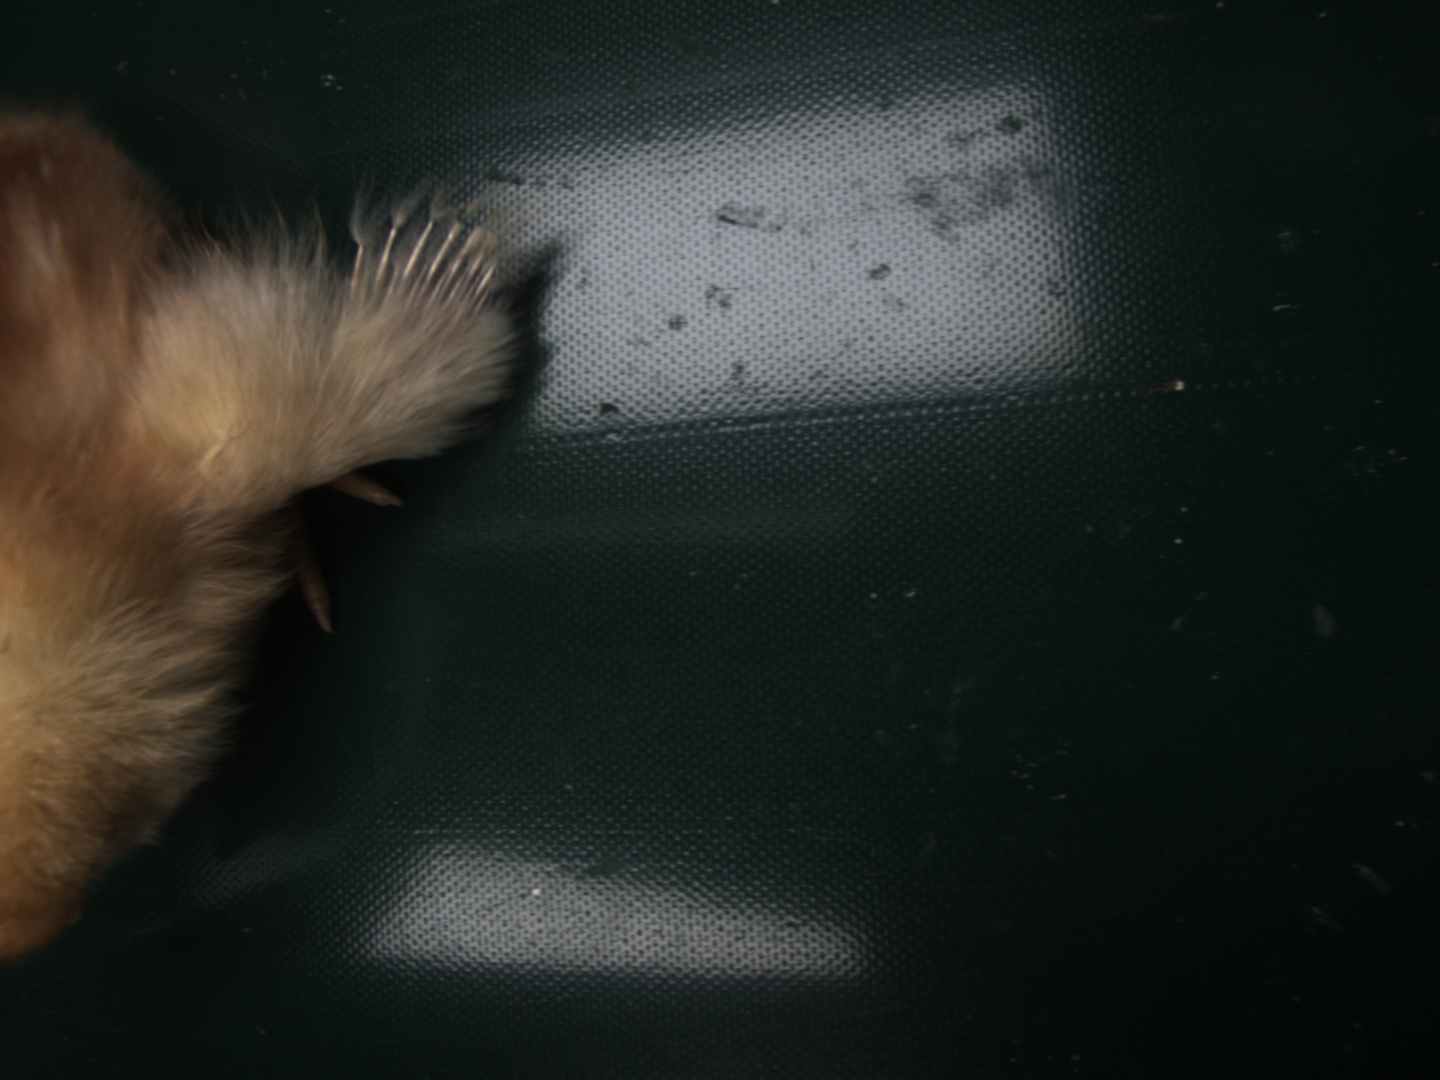female: (341, 223, 503, 317)
